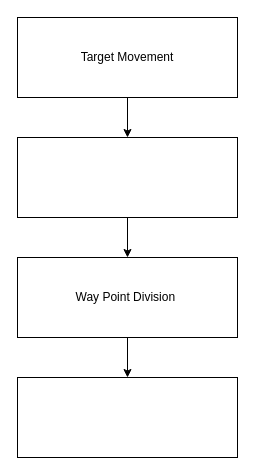
Image size: 255x475. Some labels were removed from this diagram. Here are the shapes that lost their labels. From the top down, the centre of each, then its label:
pixel 127 177: Velocity Profile Generator
pixel 127 417: Polynomial Interpolation
